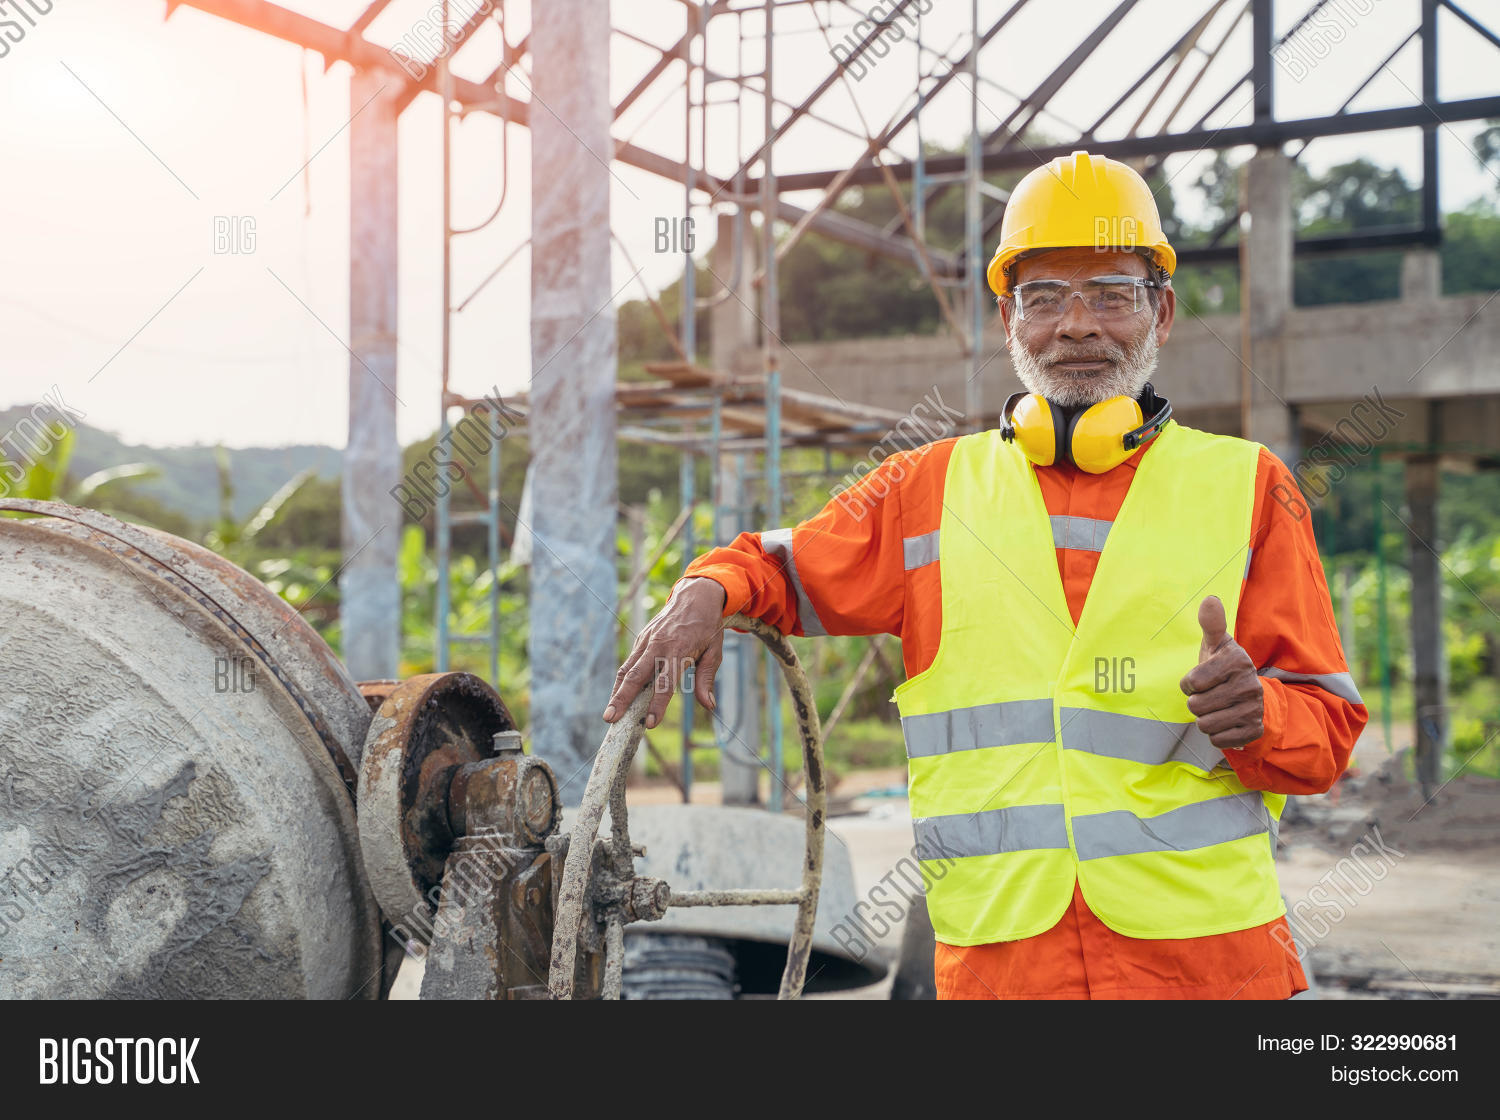With Helmet: (984, 145, 1189, 427)
